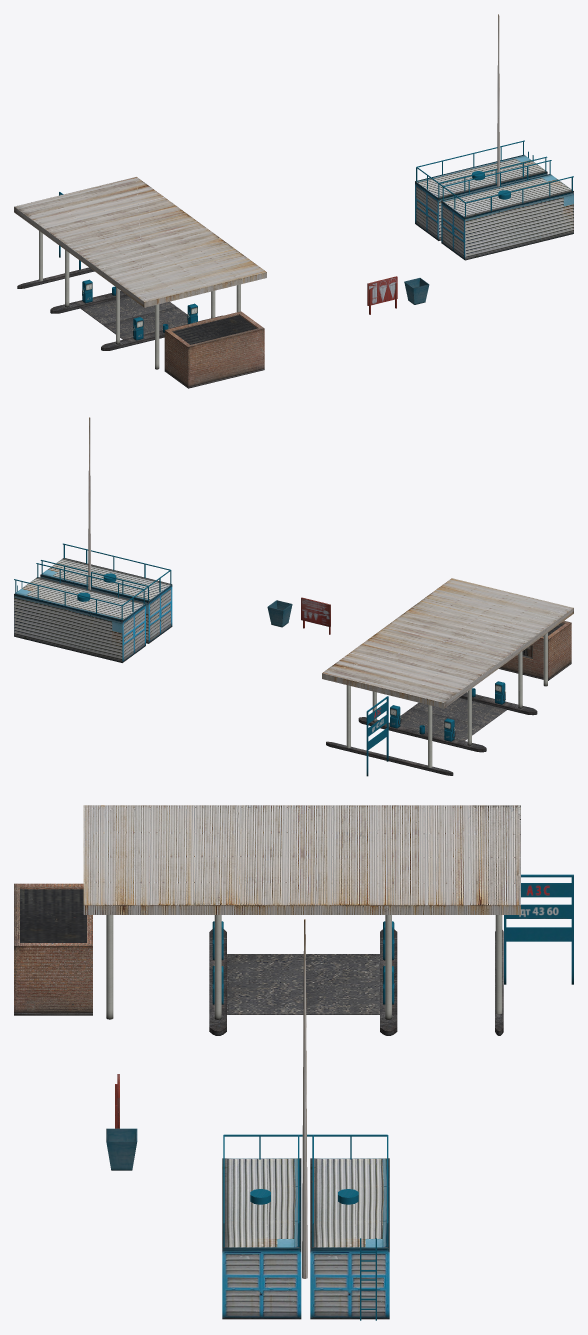
File: r402_ishim_azs_dt.FBX
3 renders of one model, top to bottom at view 1: azimuth 30°, elevation 25°; view 2: azimuth 150°, elevation 25°; view 3: azimuth 270°, elevation 25°, orthographic. The views are drawn at different scales.
Parts seen in each view (by area): view 1: r402_ishim_azs_dt; view 2: r402_ishim_azs_dt; view 3: r402_ishim_azs_dt.
Part boxes in pixels (bbox=[...]): r402_ishim_azs_dt: bbox=[14, 14, 573, 388]; r402_ishim_azs_dt: bbox=[14, 417, 573, 776]; r402_ishim_azs_dt: bbox=[14, 805, 573, 1320].
Bounding box in the file's own units: 3484 × 2126 × 1504.
